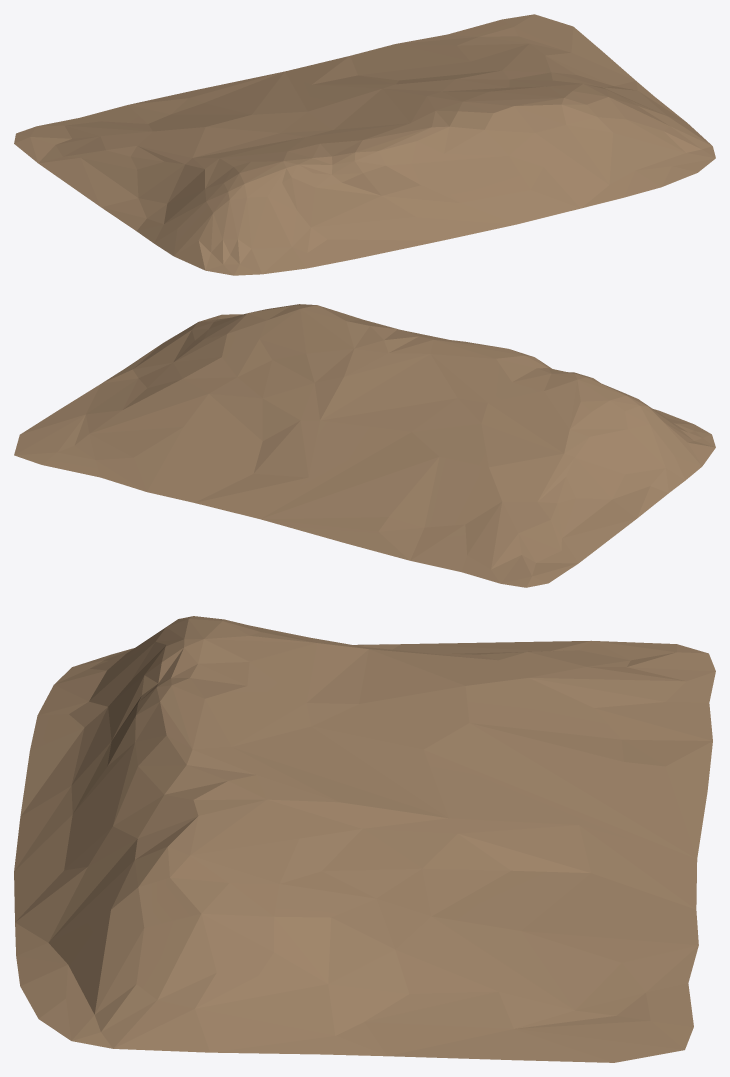
File: SM_Env_Mound_Slope_01.glb
The picture shows the model from 3 angles, top to bottom: view 1: azimuth 30°, elevation 25°; view 2: azimuth 150°, elevation 25°; view 3: azimuth 270°, elevation 25°; orthographic projection. The views are drawn at different scales.
Parts seen in each view (by area): view 1: SM_Env_Mound_Slope_01; view 2: SM_Env_Mound_Slope_01; view 3: SM_Env_Mound_Slope_01.
Part boxes in pixels (x1=…): SM_Env_Mound_Slope_01: x1=14, y1=14, x2=715, y2=275; SM_Env_Mound_Slope_01: x1=14, y1=304, x2=715, y2=587; SM_Env_Mound_Slope_01: x1=14, y1=616, x2=715, y2=1062.
Size of the model in its own units: 21.19 by 2.36 by 14.93.
1 material, 1 textured.
